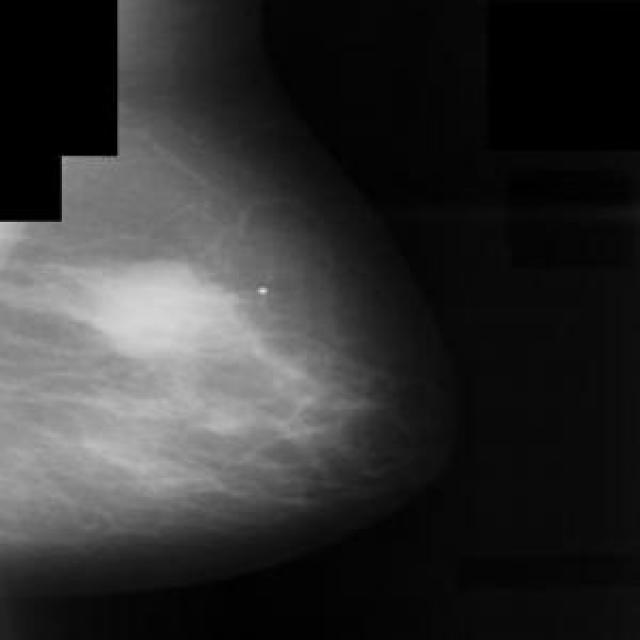tumor: (64, 236, 314, 450)
